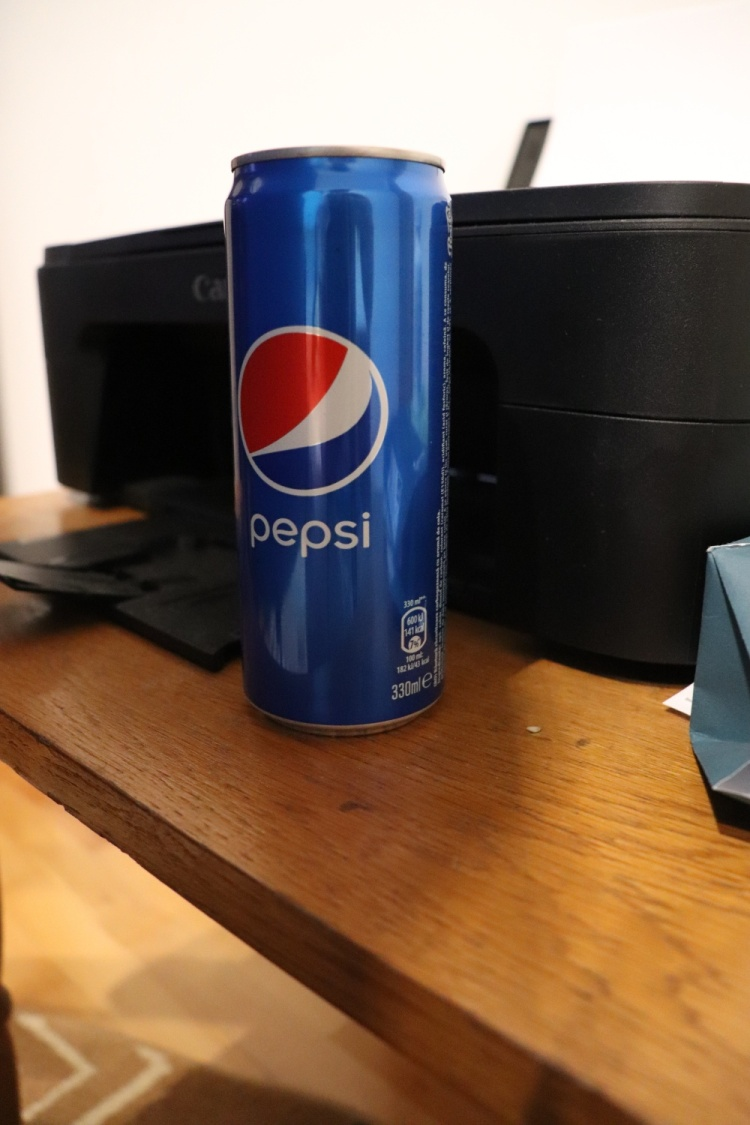pepsi: (218, 144, 461, 724)
